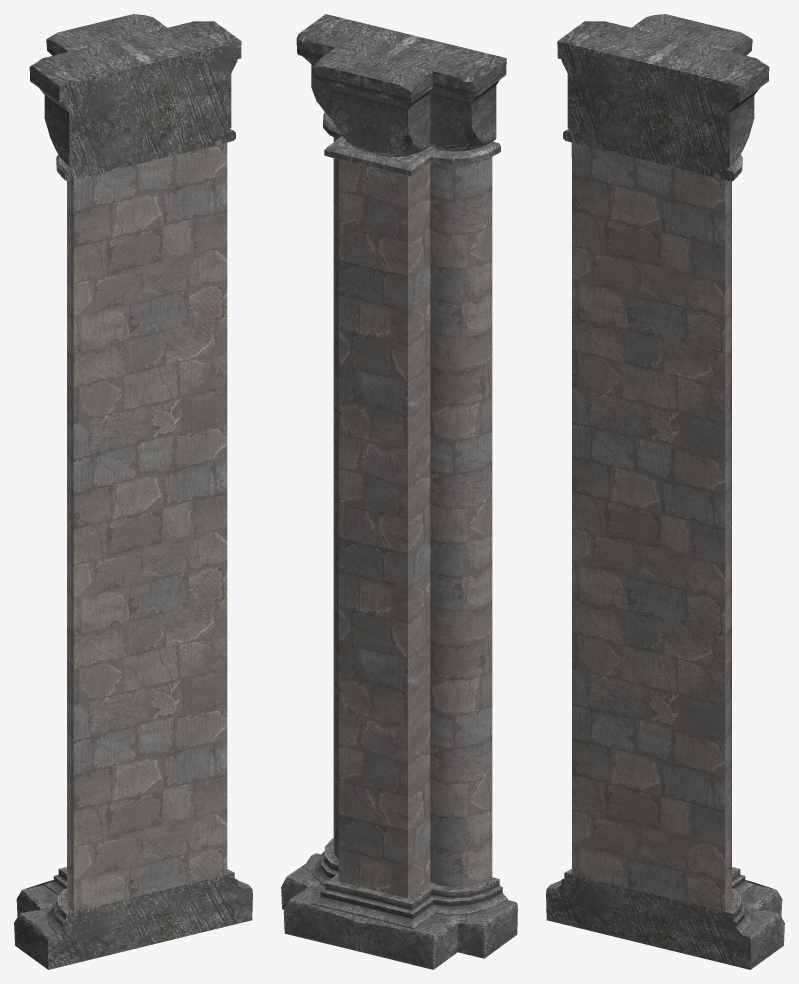
The picture shows the model from 3 angles, left to right: view 1: azimuth 30°, elevation 25°; view 2: azimuth 150°, elevation 25°; view 3: azimuth 330°, elevation 25°; orthographic projection.
Visible parts, largest first — view 1: SM_Dungeon_RoomCentralColumn_v1_LOD0; view 2: SM_Dungeon_RoomCentralColumn_v1_LOD0; view 3: SM_Dungeon_RoomCentralColumn_v1_LOD0.
Boxes of the visible parts, left/top/right/bottom form: SM_Dungeon_RoomCentralColumn_v1_LOD0: left=14, top=14, right=252, bottom=969; SM_Dungeon_RoomCentralColumn_v1_LOD0: left=281, top=14, right=517, bottom=969; SM_Dungeon_RoomCentralColumn_v1_LOD0: left=546, top=14, right=784, bottom=969.
Bounding box in the file's own units: 1.46 × 6 × 0.715.
Materials: 2 (2 with a texture image).
